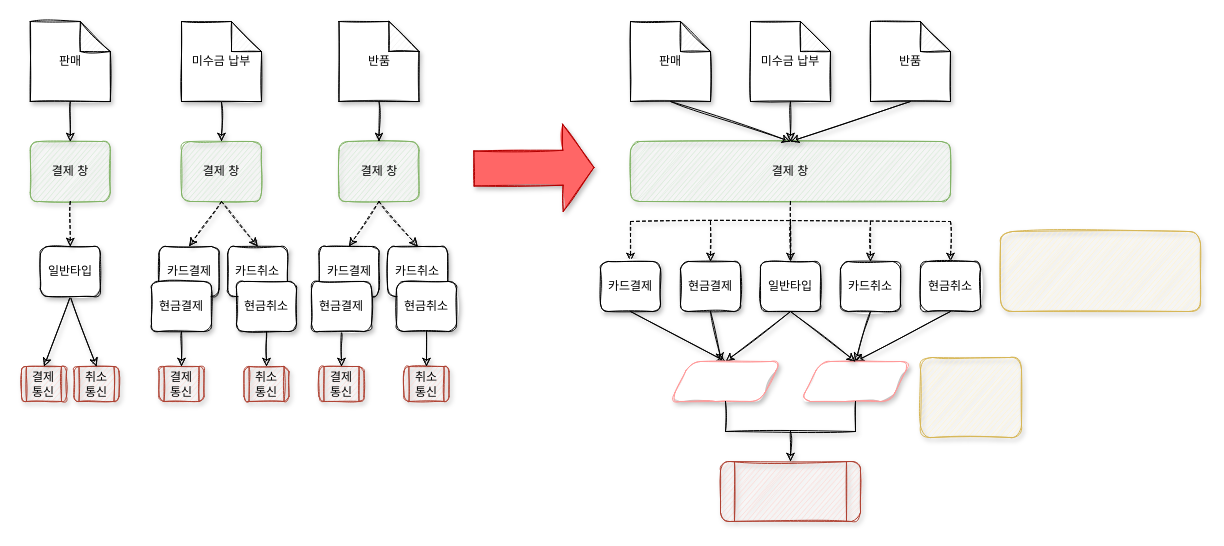
This 1224x546 diagram has some shape labels left out. The shapes that lost their labels are listed below. From the top down, each one's centre as x and y in pixels, then its label:
At point (1101, 272): "💡 TYPE별 화면 구성 1. 판매 타입 (판매, 납부, 반품) 2. 결제 타입 (신용카드, 현금영수증) 3. 재결재 가능여부".
At point (726, 382): "결제 파라미터".
At point (856, 382): "취소 파라미터".
At point (972, 398): "💡 단말기 기기별 파라미터 준비 1. KCP 2. NICE 3. KICC".
At point (791, 492): "통신".
